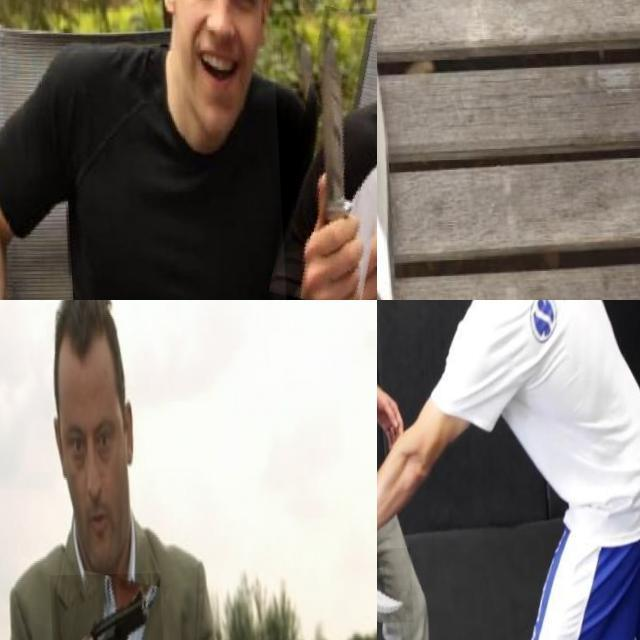-: (269, 9, 377, 300), (377, 0, 447, 300), (377, 0, 436, 292), (377, 549, 433, 625)
gun-knife-thesis - v11 Yolov5 augmented: (45, 574, 163, 640)
